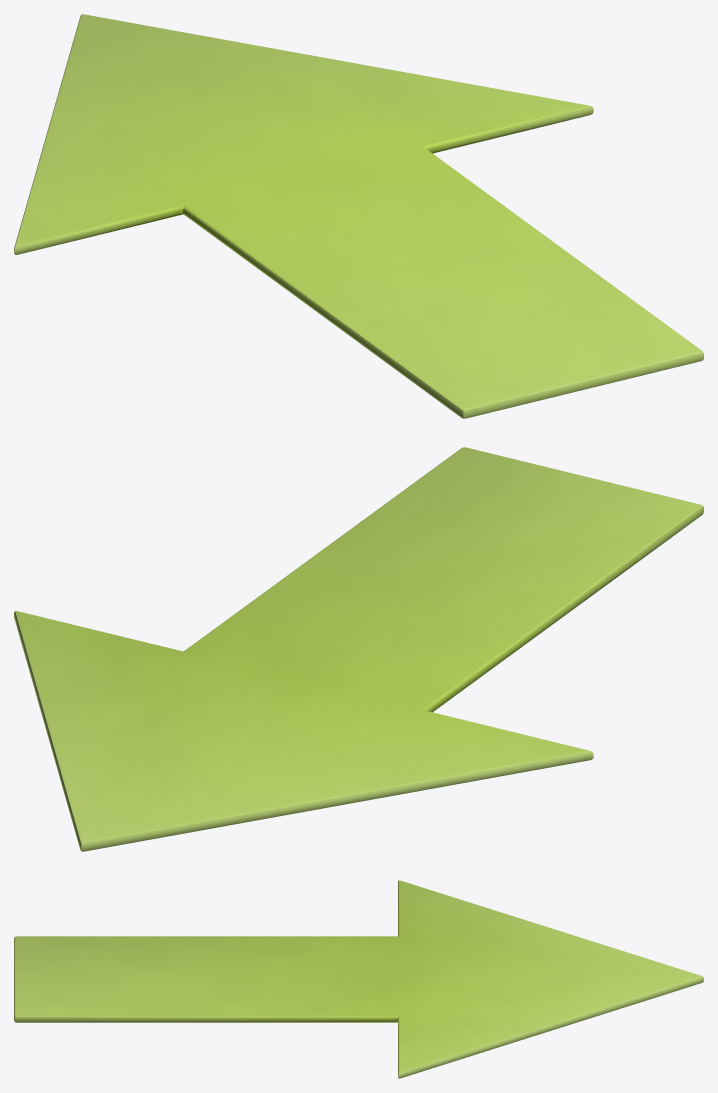
The model's file is LaneArrow.fbx.
3 views of the same model, one above another, from view 1: azimuth 30°, elevation 25°; view 2: azimuth 150°, elevation 25°; view 3: azimuth 270°, elevation 25° (orthographic). The views are drawn at different scales.
Parts seen in each view (by area): view 1: LaneArrow; view 2: LaneArrow; view 3: LaneArrow.
Boxes of the visible parts, x1,y1,x2,y2 form: LaneArrow: (14, 14, 703, 418); LaneArrow: (14, 447, 703, 851); LaneArrow: (14, 880, 703, 1078).
Size of the model in its own units: 120 by 2 by 180.
